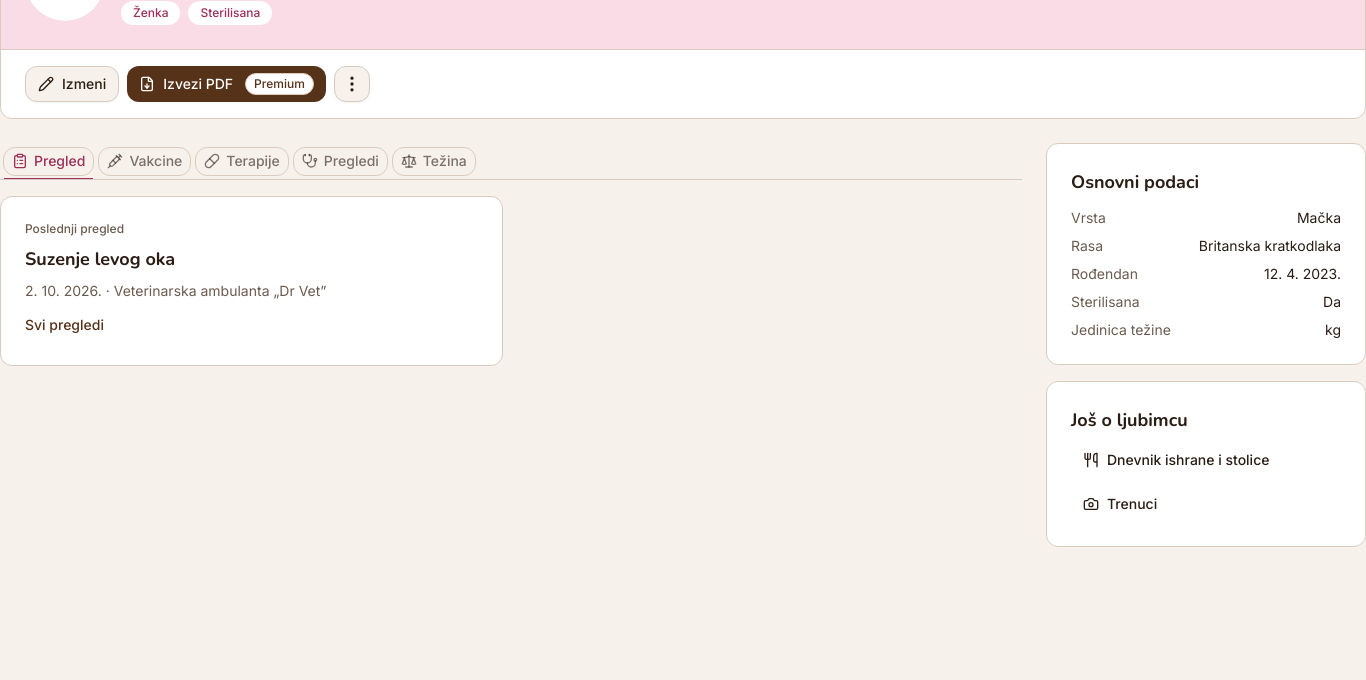
Test case: S03 Terapije — the list (FR-06) › shows each treatment with type, dose · frequency · period, the next dose and the dose log
Click the tab "Terapije" at (242, 161), box [195,146,289,176]
(page scrolled)
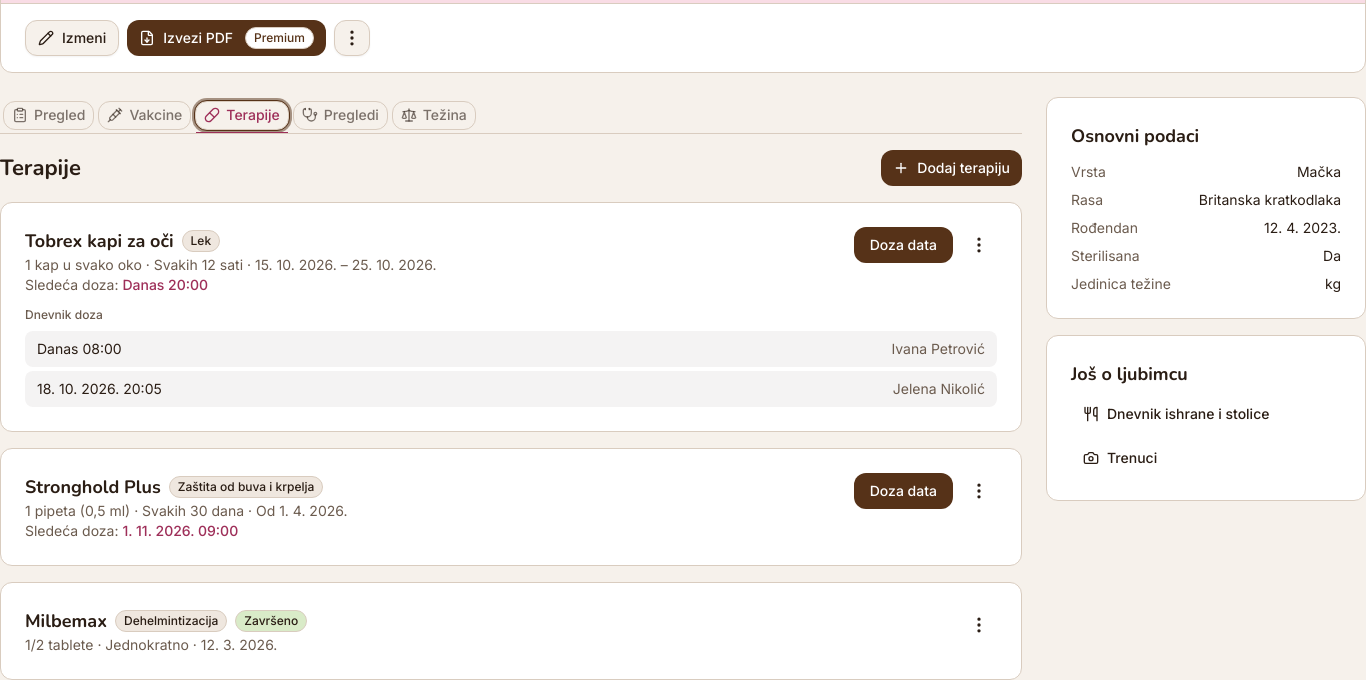
Now the text "Lek" is shown, box [182,230,220,252]
Now the text "1 kap u svako oko · Svakih 12 sati · 15. 10. 2026. – 25. 10. 2026." is shown, box [25,256,436,273]
Now the text "Danas 20:00" is shown, box [122,276,208,293]
